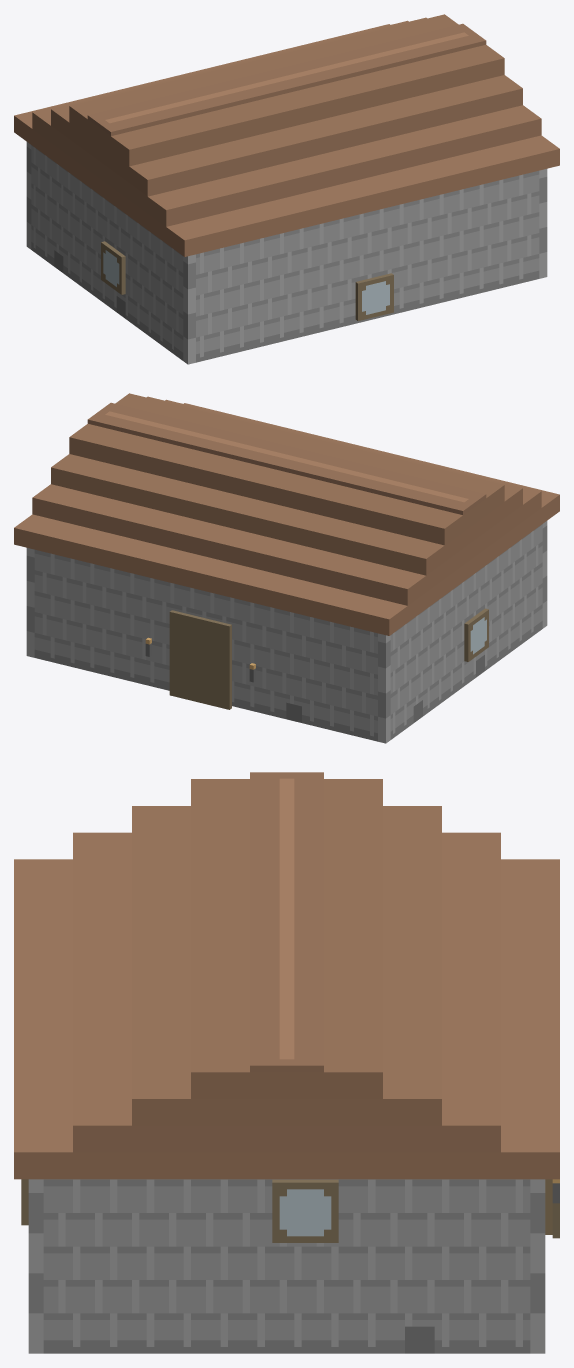
The model's file is forja_aleaciones_04.glb.
The picture shows the model from 3 angles, top to bottom: view 1: azimuth 30°, elevation 25°; view 2: azimuth 150°, elevation 25°; view 3: azimuth 270°, elevation 25°; orthographic projection. The views are drawn at different scales.
Visible parts, largest first — view 1: forja_aleaciones_04; view 2: forja_aleaciones_04; view 3: forja_aleaciones_04.
Part boxes in pixels (left/top/right/bottom): forja_aleaciones_04: left=14, top=14, right=559, bottom=364; forja_aleaciones_04: left=14, top=393, right=559, bottom=743; forja_aleaciones_04: left=14, top=772, right=559, bottom=1353.
Bounding box in the file's own units: 9.4 × 4.4 × 7.4.
